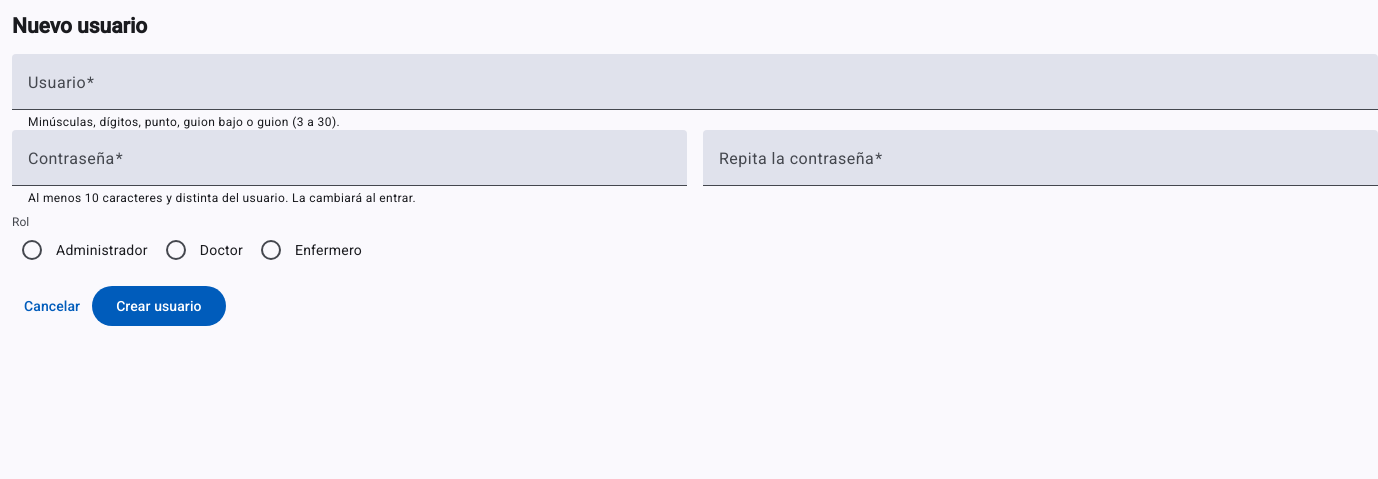
Test: UsuarioDialogoComponent › si no cargan los trabajadores lo indica al elegir doctor o enfermero
Click the radio button labelled "Enfermero".
click(312, 250)  # box [261, 240, 362, 260]
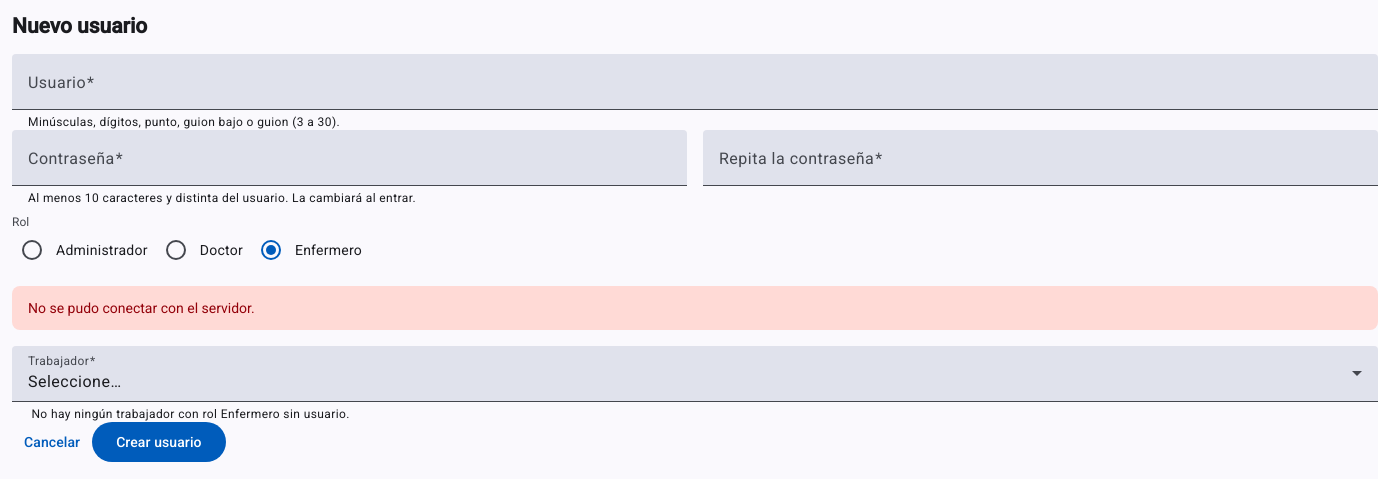
Now the text "No se pudo conectar con el servidor." is shown, box [28, 300, 255, 316]
